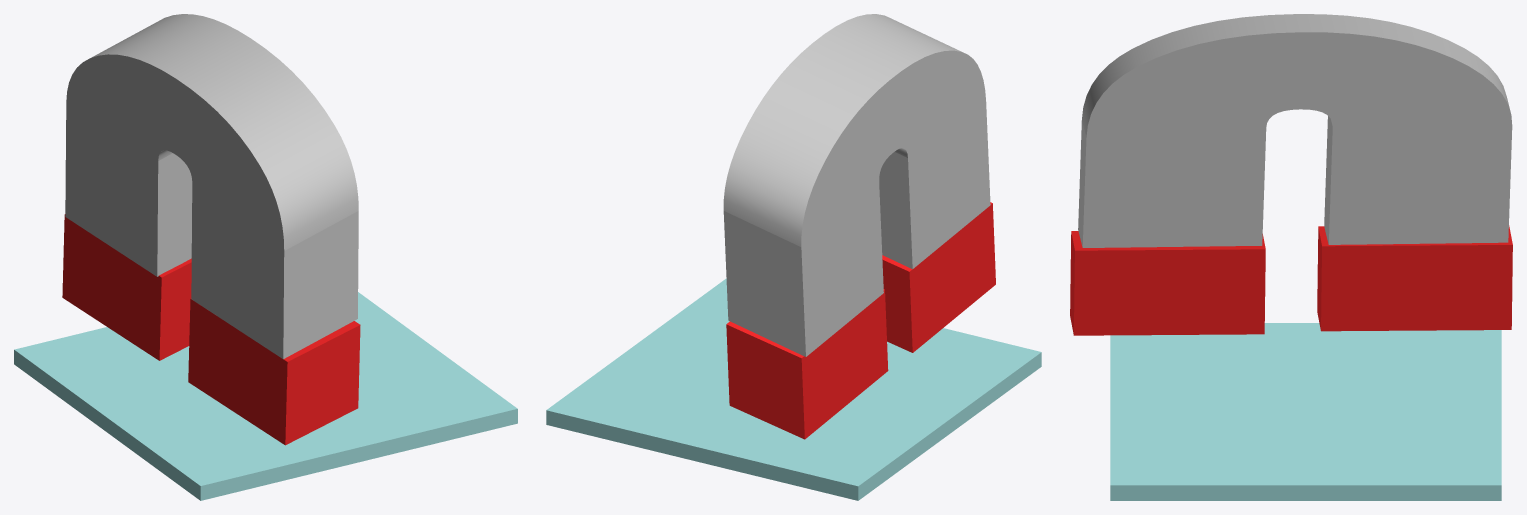
The model's file is iman.DAE.
3 renders of one model, left to right at view 1: azimuth 30°, elevation 25°; view 2: azimuth 150°, elevation 25°; view 3: azimuth 270°, elevation 25°, orthographic. The views are drawn at different scales.
Parts seen in each view (by area): view 1: Text001, Box003, Box002, Box004; view 2: Text001, Box003, Box004, Box002; view 3: Text001, Box003, Box002, Box004.
Boxes of the visible parts, x1=… form: Text001: x1=65, y1=14, x2=358, y2=359; Box003: x1=14, y1=292, x2=517, y2=500; Box002: x1=188, y1=298, x2=360, y2=445; Box004: x1=62, y1=214, x2=191, y2=360; Text001: x1=723, y1=14, x2=990, y2=356; Box003: x1=546, y1=278, x2=1041, y2=500; Box004: x1=726, y1=289, x2=888, y2=439; Box002: x1=882, y1=202, x2=995, y2=352; Text001: x1=1078, y1=14, x2=1512, y2=247; Box003: x1=1110, y1=323, x2=1501, y2=500; Box002: x1=1070, y1=231, x2=1265, y2=335; Box004: x1=1317, y1=225, x2=1512, y2=331.
Size of the model in its own units: 131 by 150 by 142.
Materials: 3 (1 with a texture image).
